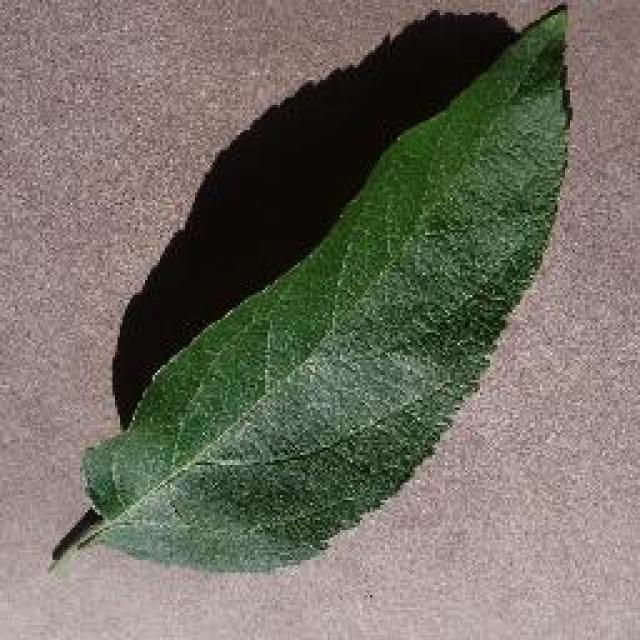apple healthy: (48, 0, 572, 578)
